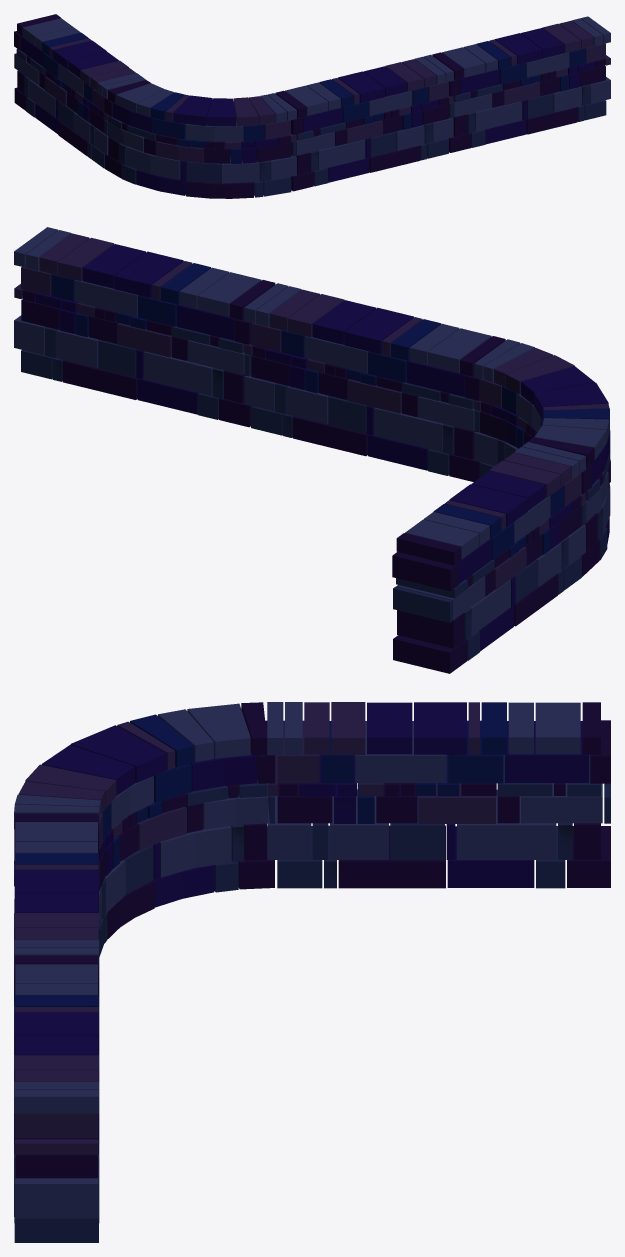
Rendered from WallBlue5.fbx.
3 renders of one model, top to bottom at view 1: azimuth 30°, elevation 25°; view 2: azimuth 150°, elevation 25°; view 3: azimuth 270°, elevation 25°, orthographic. The views are drawn at different scales.
Visible parts, largest first — view 1: WallBlue5; view 2: WallBlue5; view 3: WallBlue5.
Boxes of the visible parts, box(x1,y1,x2,y2) form: WallBlue5: box(14, 14, 610, 198); WallBlue5: box(14, 227, 610, 673); WallBlue5: box(14, 702, 610, 1242).
Bounding box in the file's own units: 55.73 × 9.9 × 35.62.
1 material, 1 textured.
